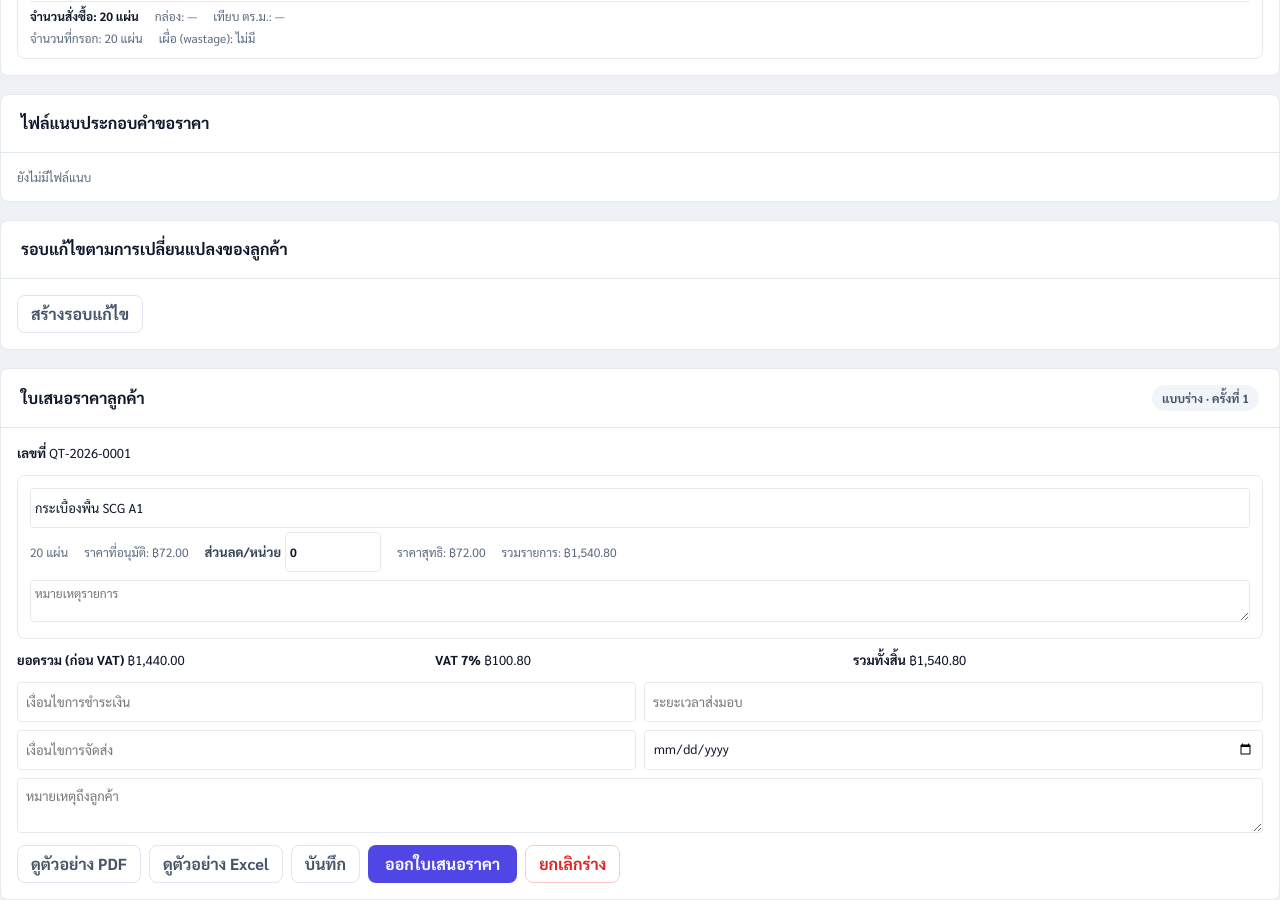
PricingRequestDetailPage shared ConfirmDialog copy (the three surviving actions) › issueQuotation — ออกใบเสนอราคาลูกค้า / เมื่อออกใบเสนอราคาแล้ว… / ออกใบเสนอราคา
(page scrolled)
Expected: the text "QT-2026-0001" is shown, [49,444,131,461]
Click the button "ออกใบเสนอราคา": (443, 864) [368,845,517,883]
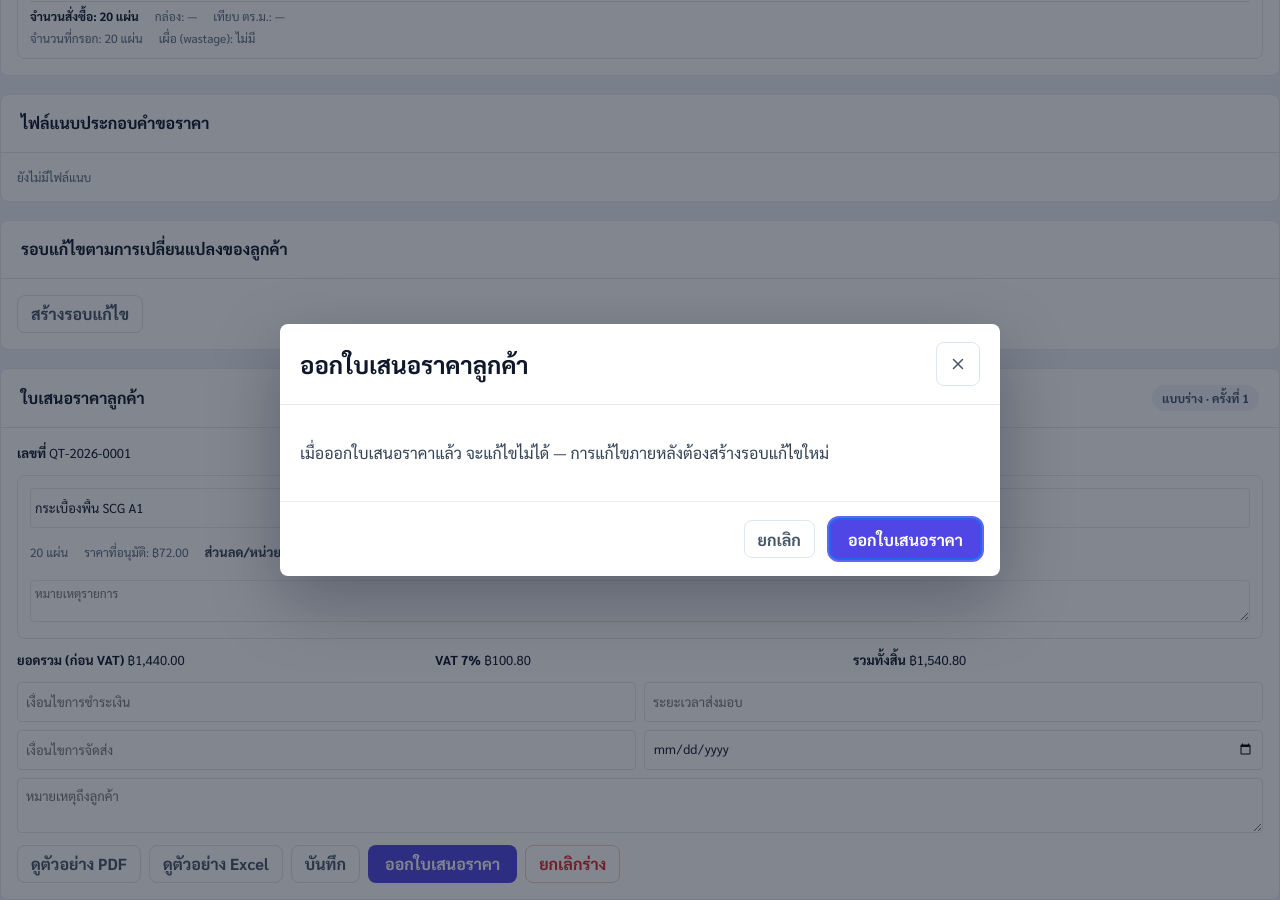
Expected: the text "เมื่อออกใบเสนอราคาแล้ว จะแก้ไขไม่ได้ — การแก้ไขภายหลังต้องสร้างรอบแก้ไขใหม่" is shown, [300,442,829,463]
Expected: the button "ออกใบเสนอราคา" is shown, [831,520,980,558]
